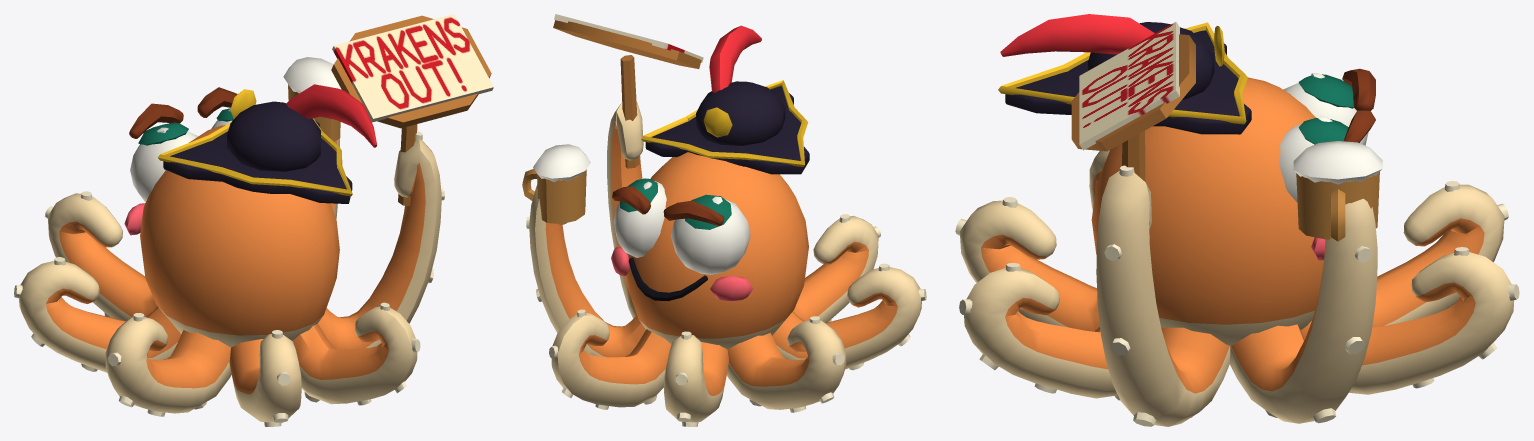
The model's file is larry.glb.
3 views of the same model, side by side, from view 1: azimuth 30°, elevation 25°; view 2: azimuth 150°, elevation 25°; view 3: azimuth 270°, elevation 25° (orthographic). The views are drawn at different scales.
Visible parts, largest first — view 1: Larry, Arm7, Arm4, Arm6, Arm3, Arm2, Arm5, Arm0; view 2: Larry, Arm0, Arm3, Arm1, Arm7, Arm4, Arm5, Arm2; view 3: Larry, Arm7, Arm0, Arm1, Arm6, Arm2, Arm5.
Part boxes in pixels (bbox=[...]): Larry: bbox=[124, 84, 376, 347]; Arm7: bbox=[318, 14, 493, 349]; Arm4: bbox=[105, 313, 231, 416]; Arm6: bbox=[292, 302, 420, 405]; Arm3: bbox=[14, 257, 181, 372]; Arm2: bbox=[45, 191, 157, 320]; Arm5: bbox=[229, 330, 301, 426]; Arm0: bbox=[283, 57, 341, 219]; Larry: bbox=[611, 25, 809, 349]; Arm0: bbox=[522, 144, 645, 357]; Arm3: bbox=[727, 316, 846, 412]; Arm1: bbox=[549, 309, 671, 409]; Arm7: bbox=[553, 14, 703, 318]; Arm4: bbox=[772, 263, 926, 370]; Arm5: bbox=[793, 214, 880, 322]; Arm2: bbox=[664, 331, 728, 426]; Larry: bbox=[998, 14, 1375, 345]; Arm7: bbox=[1071, 22, 1230, 426]; Arm0: bbox=[1230, 141, 1382, 423]; Arm1: bbox=[1300, 247, 1519, 394]; Arm6: bbox=[959, 262, 1119, 400]; Arm2: bbox=[1372, 181, 1508, 327]; Arm5: bbox=[955, 197, 1099, 331].
Size of the model in its own units: 2.26 by 1.87 by 2.36.
2 materials, 1 textured.
